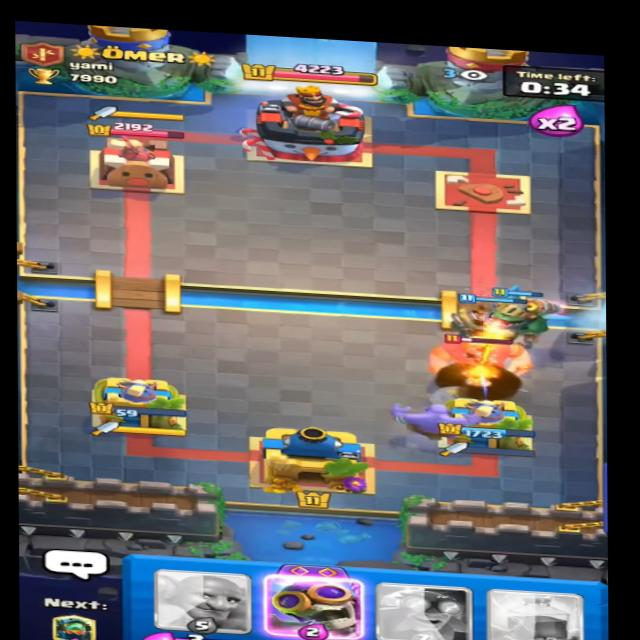giant: (431, 326, 541, 391)
